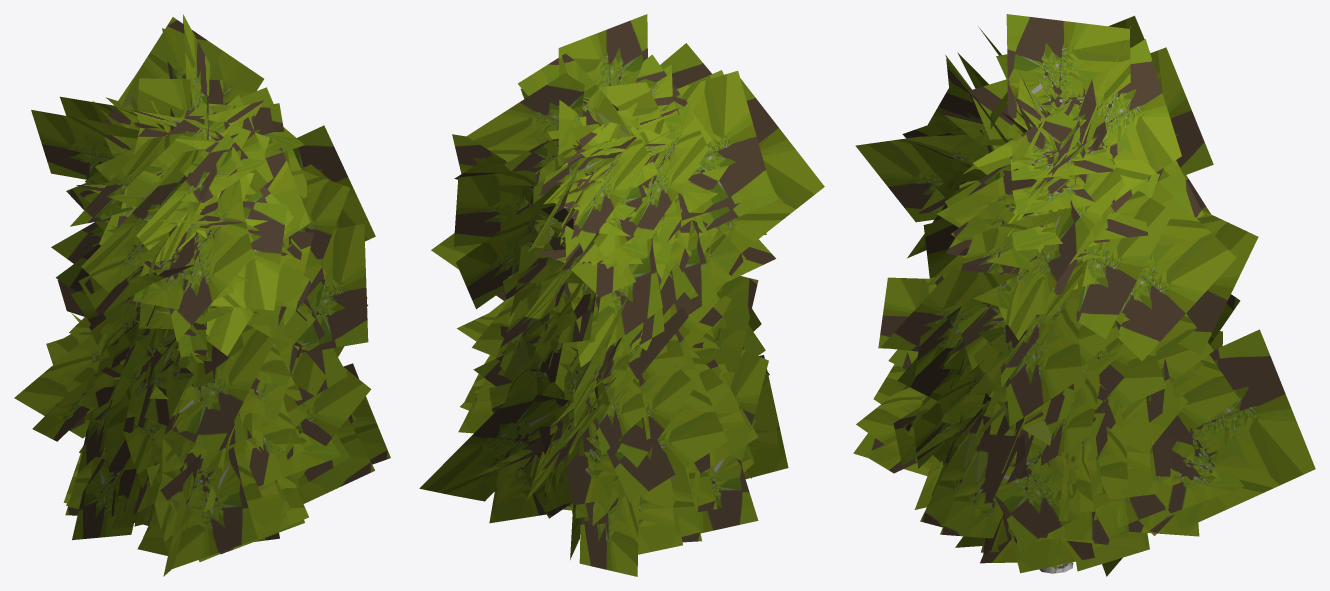
Rendered from birch_0.gltf.
3 views of the same model, side by side, from view 1: azimuth 30°, elevation 25°; view 2: azimuth 150°, elevation 25°; view 3: azimuth 270°, elevation 25° (orthographic). The views are drawn at different scales.
Parts seen in each view (by area): view 1: birch_0; view 2: birch_0; view 3: birch_0.
Boxes of the visible parts, x1,y1,x2,y2 form: birch_0: [14, 14, 390, 576]; birch_0: [419, 14, 824, 576]; birch_0: [853, 14, 1315, 576].
Bounding box in the file's own units: 11.19 × 16.63 × 12.6.
2 materials, 2 textured.
